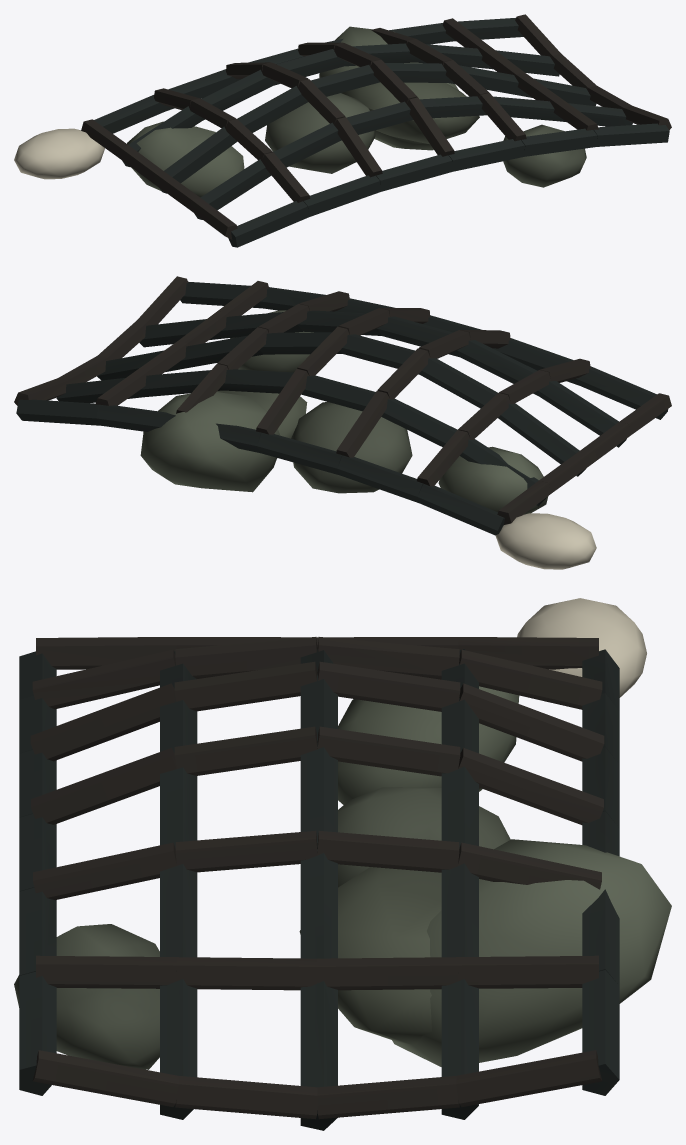
The model's file is blast_mat_b.glb.
3 renders of one model, top to bottom at view 1: azimuth 30°, elevation 25°; view 2: azimuth 150°, elevation 25°; view 3: azimuth 270°, elevation 25°, orthographic. The views are drawn at different scales.
Visible parts, largest first — view 1: Surface; view 2: Surface; view 3: Surface.
Part boxes in pixels (left/top/right/bottom): Surface: left=14, top=14, right=671, bottom=247; Surface: left=14, top=276, right=671, bottom=569; Surface: left=14, top=598, right=671, bottom=1130.
Size of the model in its own units: 3.09 by 0.721 by 1.75.
